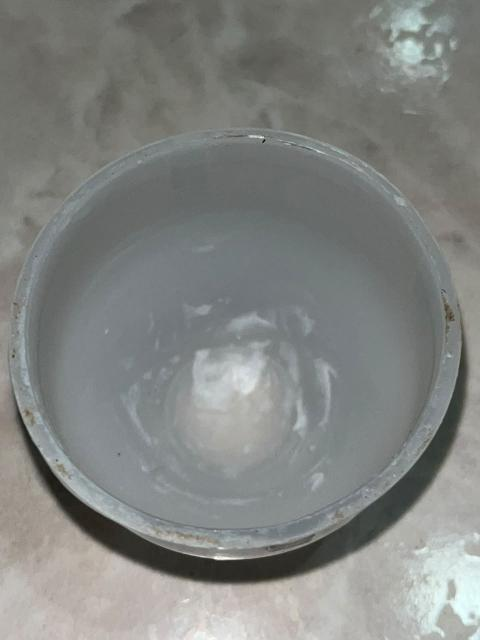HDPE: (0, 85, 480, 622)
